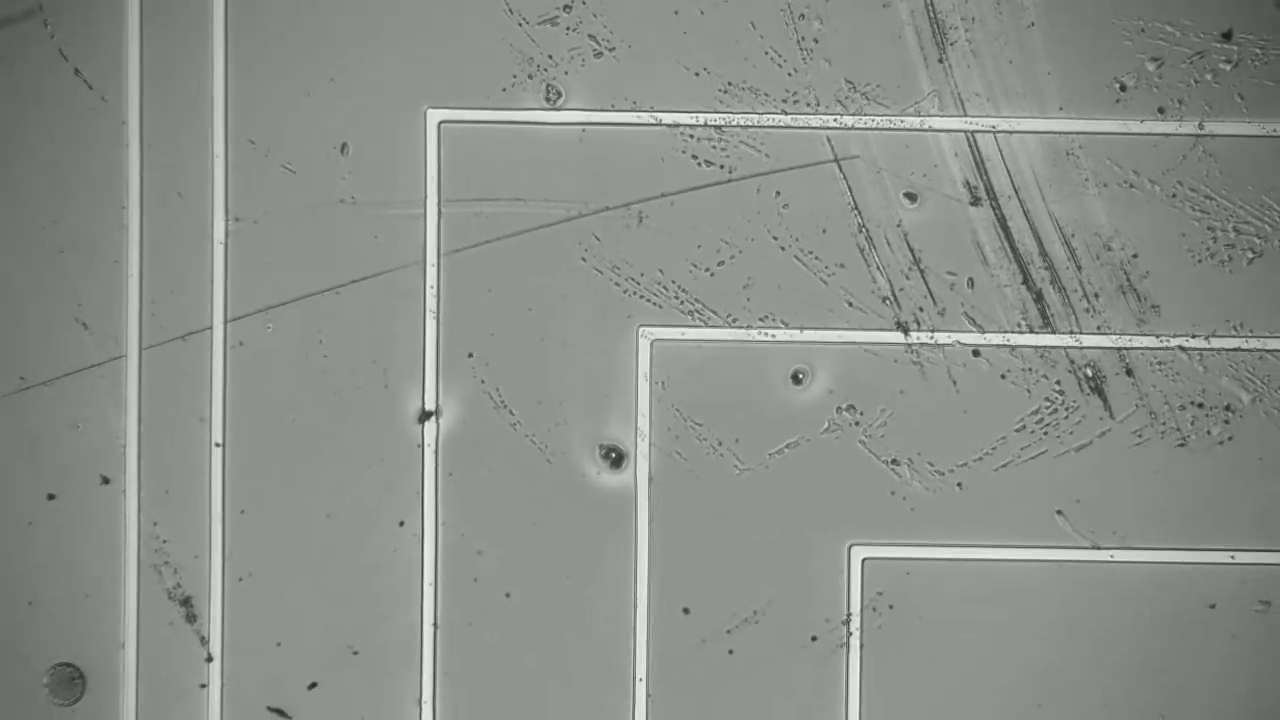scratch: (10, 154, 851, 397), (920, 13, 1107, 397), (822, 134, 913, 347)
stains_enbedded: (10, 1, 139, 111), (400, 389, 464, 448)
